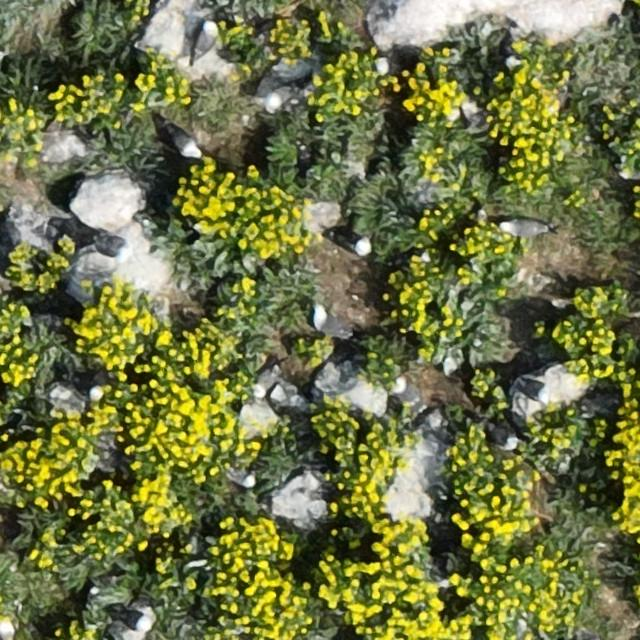umineko: (83, 237, 136, 264), (265, 85, 305, 114), (381, 377, 422, 404), (166, 126, 198, 157), (499, 220, 544, 238), (487, 425, 518, 450), (332, 233, 368, 254), (255, 364, 278, 396), (313, 310, 345, 333), (372, 56, 407, 77), (195, 24, 215, 58), (119, 610, 151, 631), (522, 381, 552, 400), (227, 470, 255, 488)
